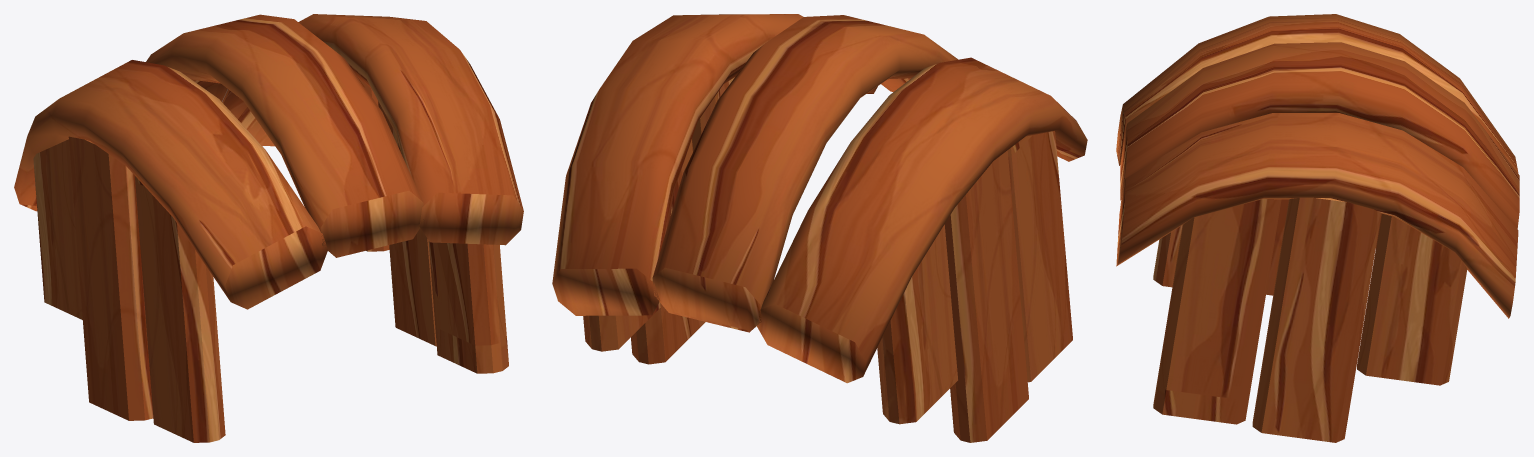
File: TahtaKask.fbx
3 renders of one model, left to right at view 1: azimuth 30°, elevation 25°; view 2: azimuth 150°, elevation 25°; view 3: azimuth 270°, elevation 25°, orthographic. The views are drawn at different scales.
Parts seen in each view (by area): view 1: TahtaKask; view 2: TahtaKask; view 3: TahtaKask.
Boxes of the visible parts, left/top/right/bottom form: TahtaKask: left=14, top=14, right=523, bottom=442; TahtaKask: left=552, top=14, right=1087, bottom=442; TahtaKask: left=1116, top=14, right=1519, bottom=442.
Bounding box in the file's own units: 27.88 × 24.94 × 29.59.
1 material, 1 textured.
